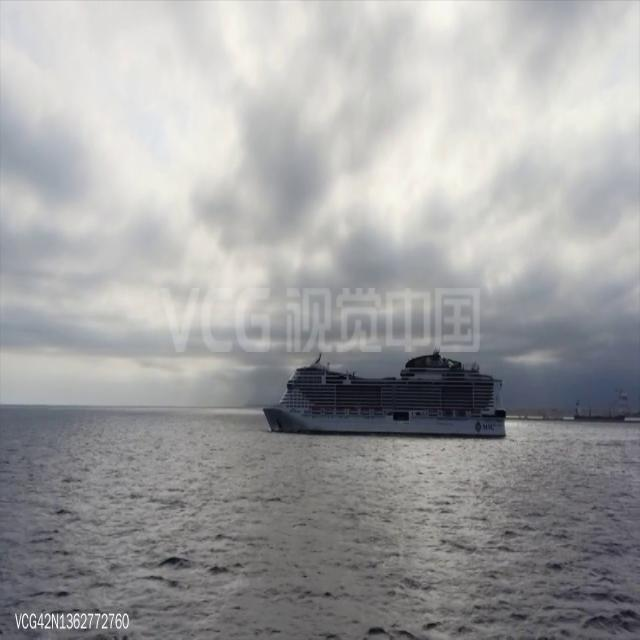passenger ship: (262, 349, 507, 435)
